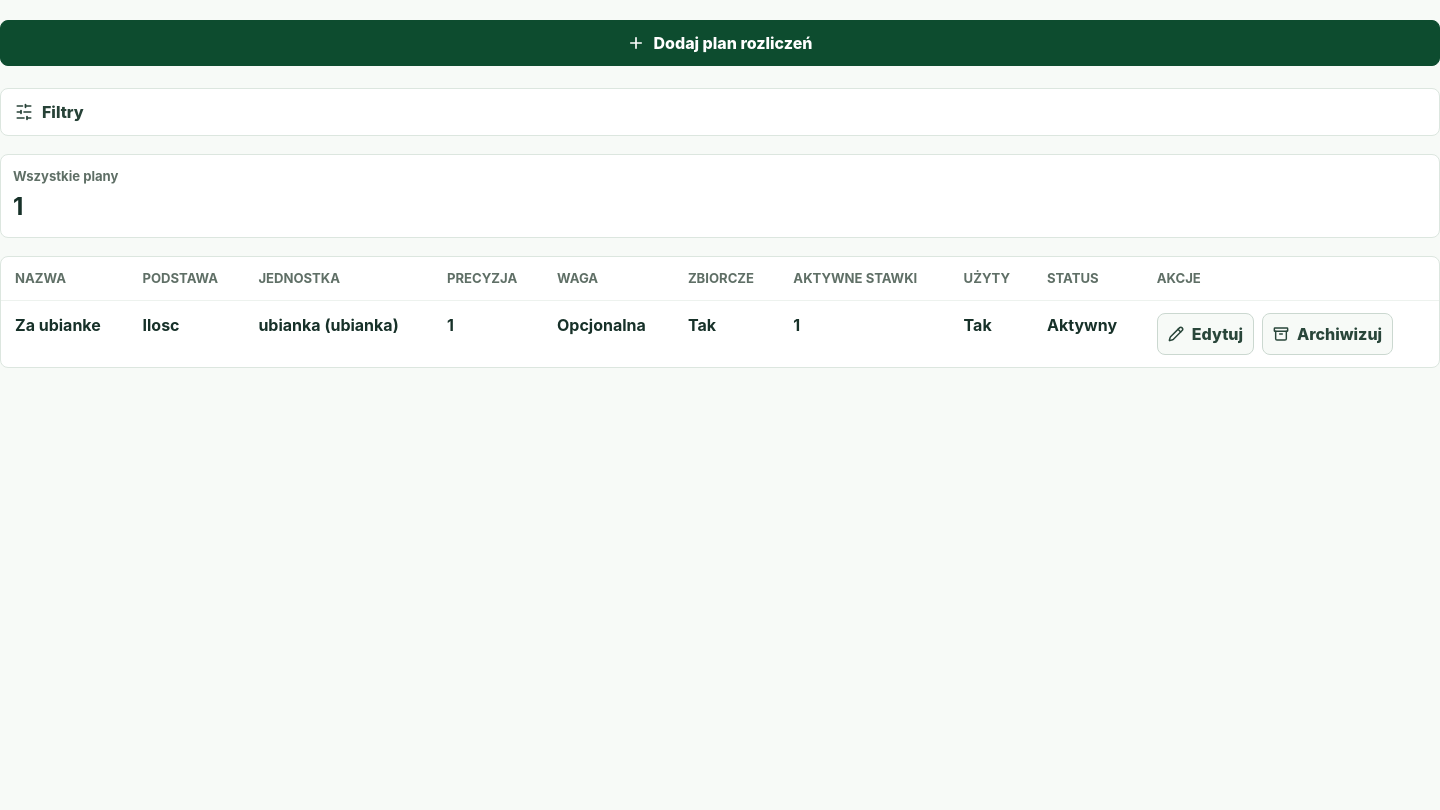
Scenario: AdminSettlementPlansPanel › edits safe settlement plan fields after snapshot confirmation
The image size is (1440, 810).
Expected: the text "Za ubianke" is shown, [15,315,101,335]
Click the button "Edytuj".
click(1205, 334)  # box [1157,313,1254,355]
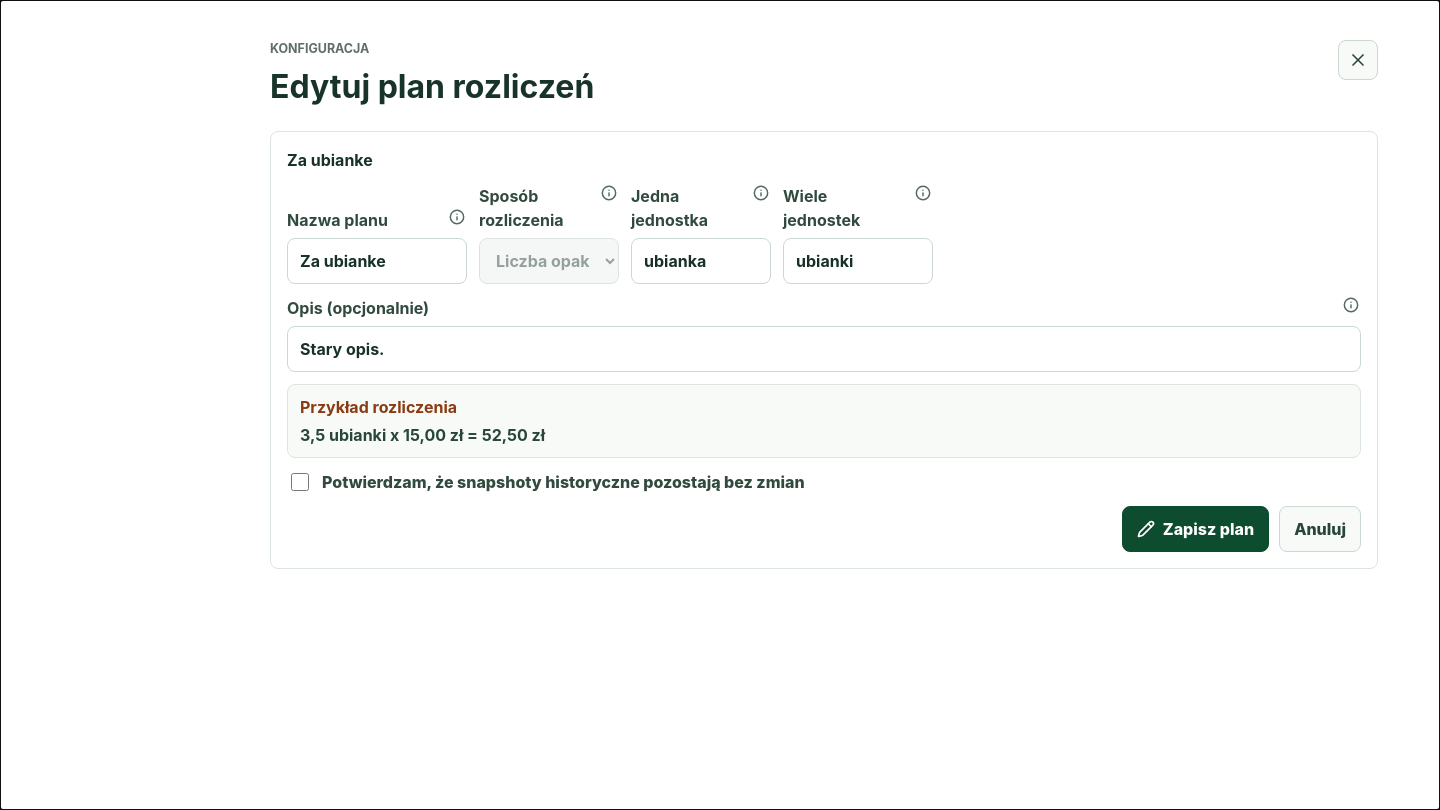
Replace the text in the field labelled "Nazwa planu" with "Za pelna ubianke" at (377, 261), box [287,238,467,284]
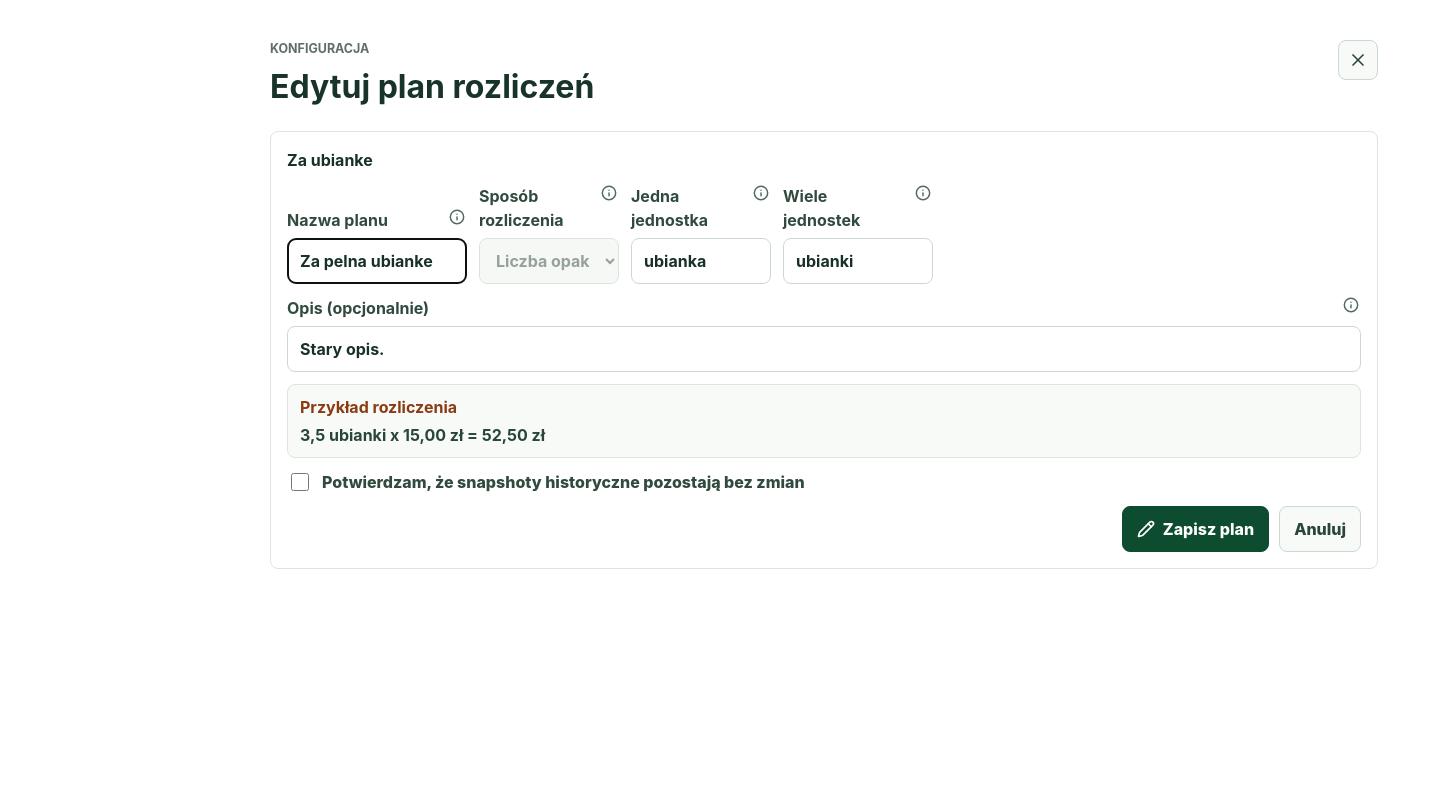
Replace the text in the field labelled "Wiele jednostek" with "pelne ubianki" at (858, 261), box [783,238,933,284]
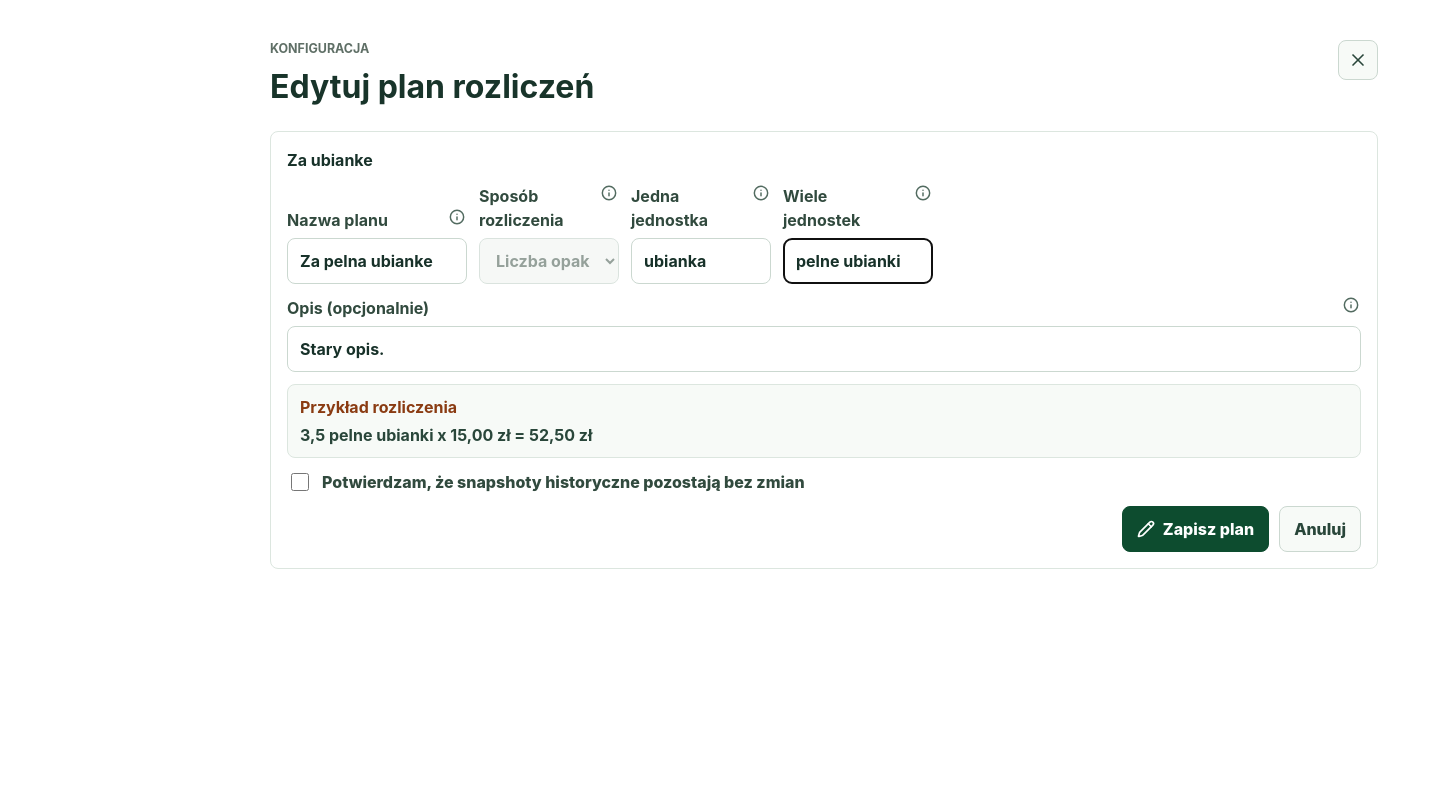
Click the checkbox labelled "Potwierdzam, że snapshoty historyczne pozostają bez zmian".
click(300, 482)  # box [291,473,309,491]
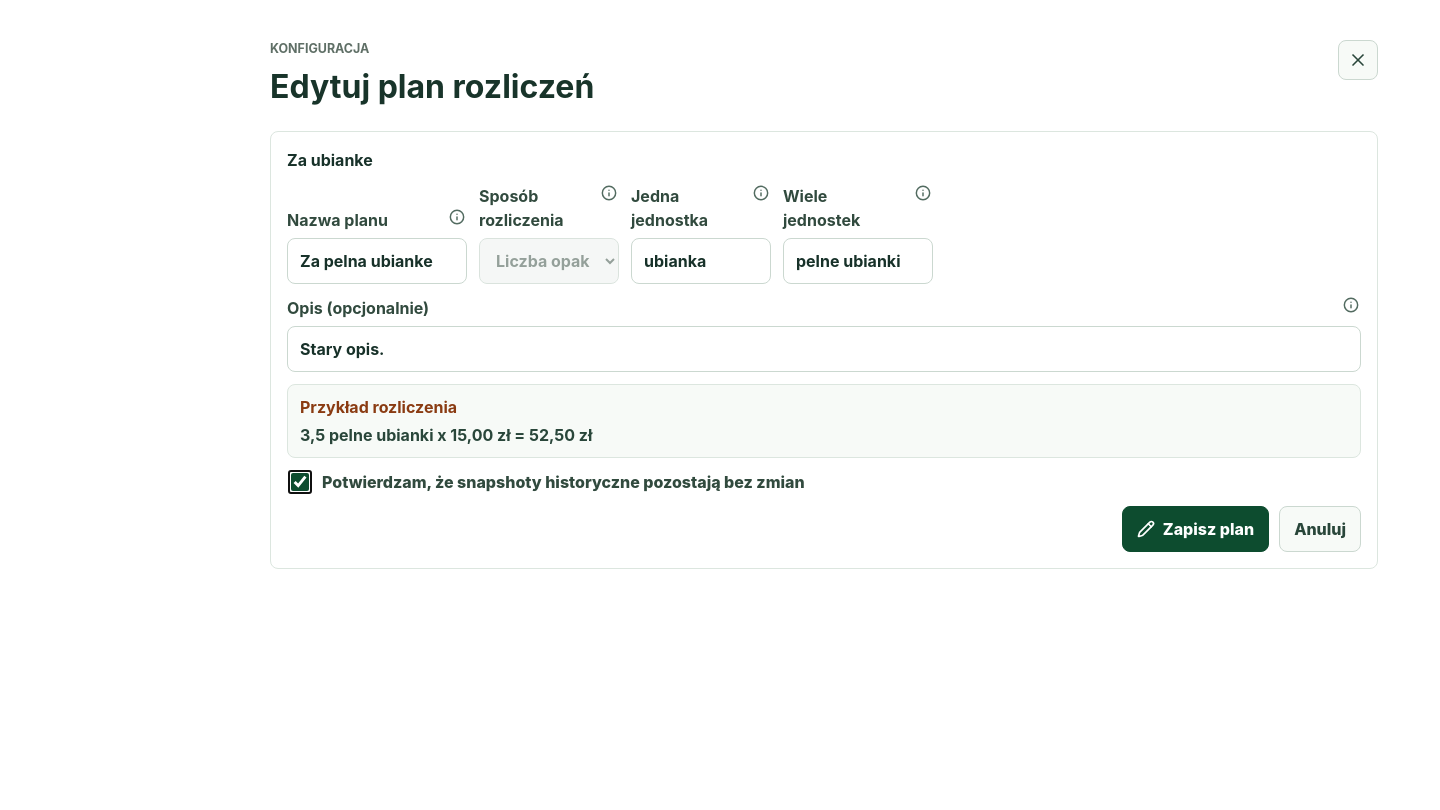
Click the button "Zapisz plan".
click(1195, 529)  # box [1122,506,1269,552]
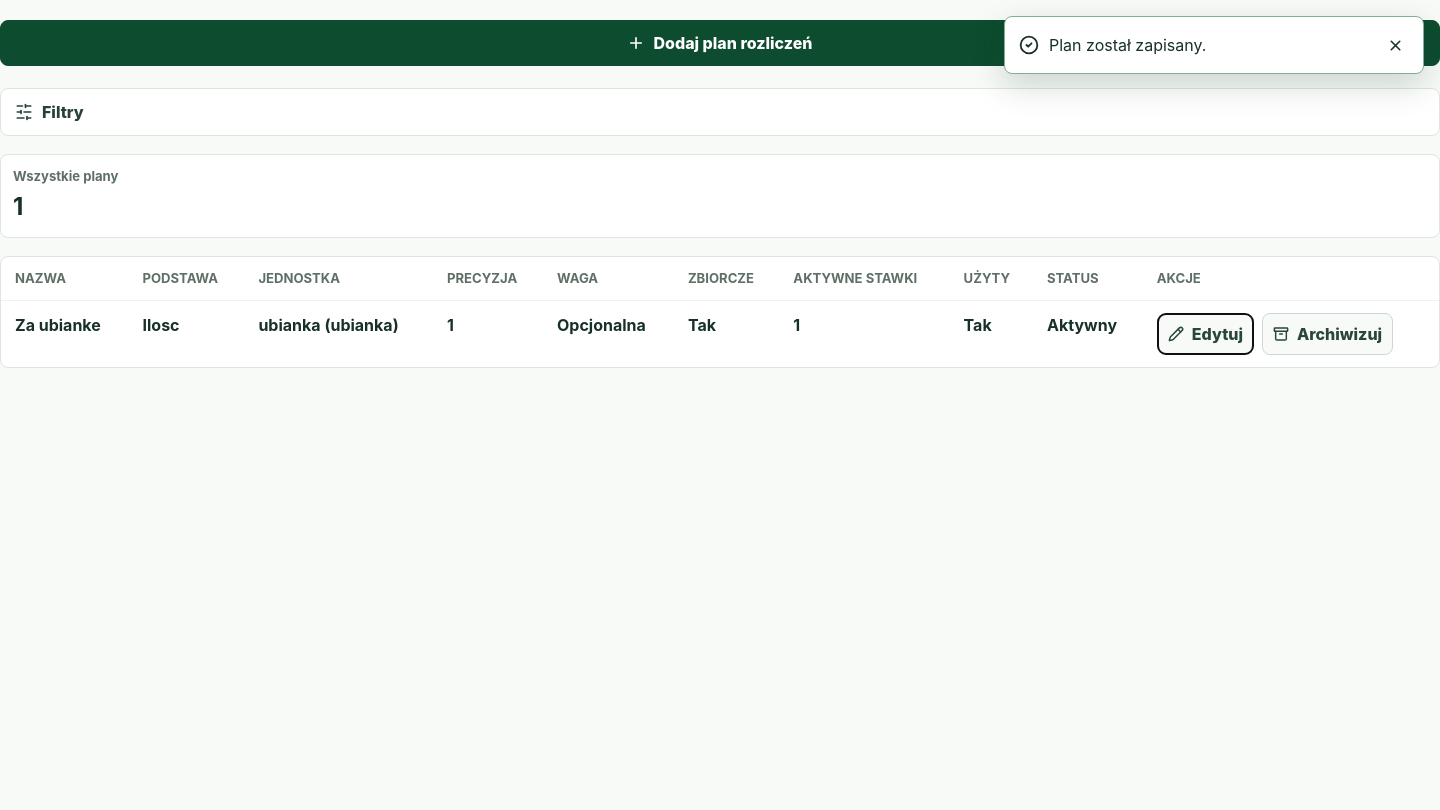
Expected: the text "Plan został zapisany." is shown, [1049,35,1206,55]
